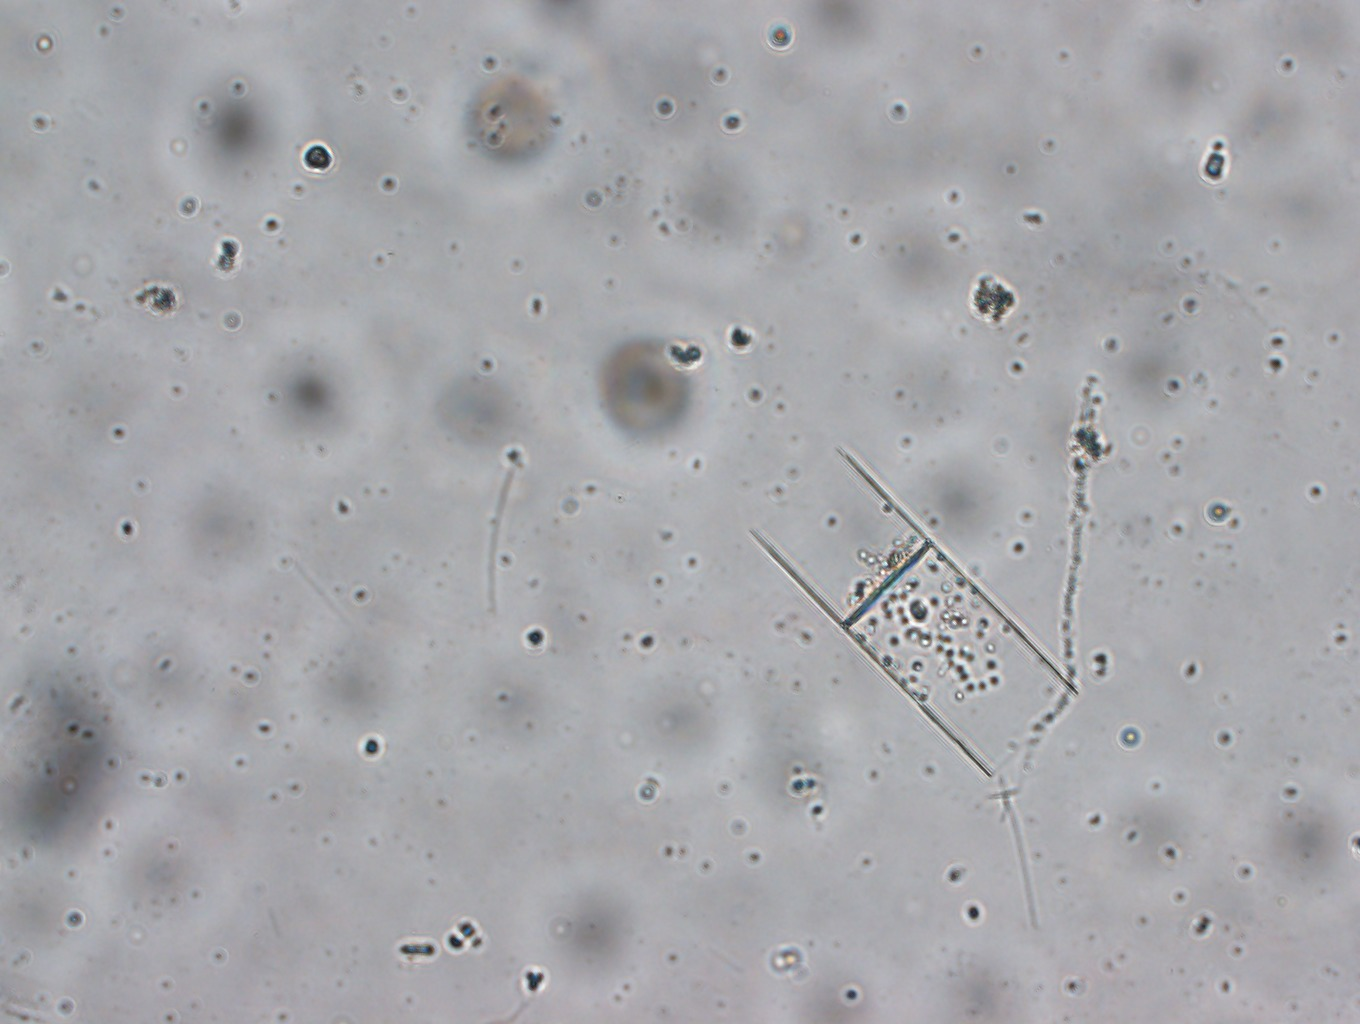guinardia flaccida: (748, 435, 1076, 785)
